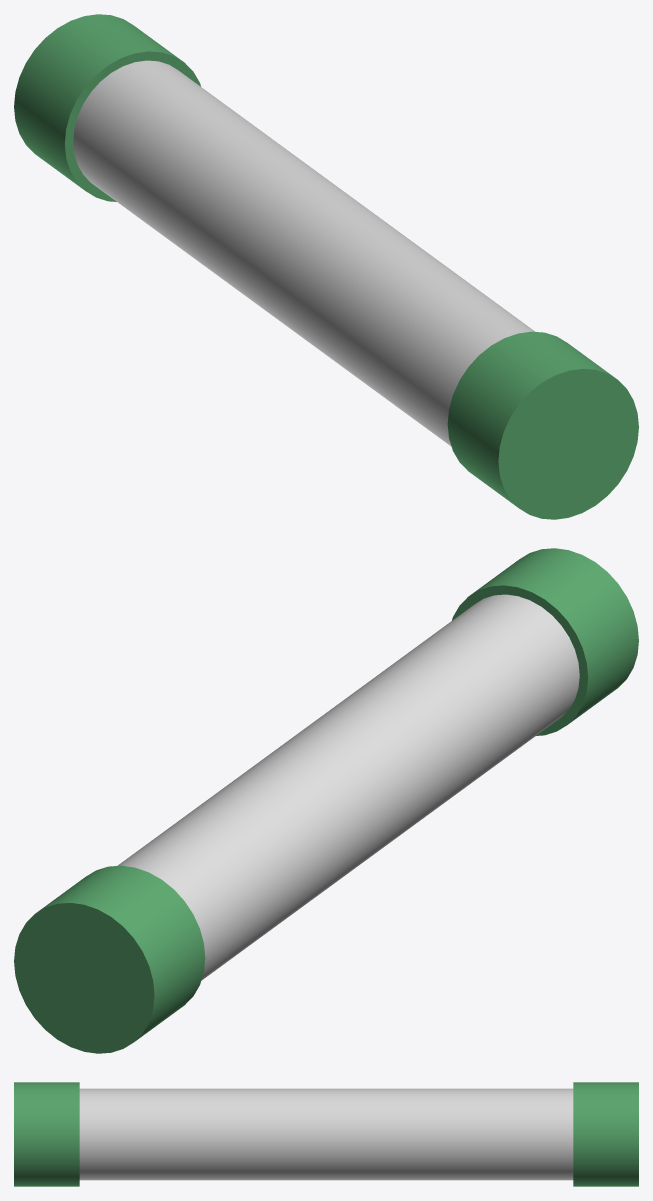
The model's file is 1fuseGreen.fbx.
3 views of the same model, one above another, from view 1: azimuth 30°, elevation 25°; view 2: azimuth 150°, elevation 25°; view 3: azimuth 270°, elevation 25° (orthographic). The views are drawn at different scales.
Visible parts, largest first — view 1: 円柱; view 2: 円柱; view 3: 円柱.
Part boxes in pixels (x1=…): 円柱: x1=14, y1=14, x2=638, y2=519; 円柱: x1=14, y1=548, x2=638, y2=1053; 円柱: x1=14, y1=1082, x2=638, y2=1186.
Size of the model in its own units: 237 by 237 by 1416.
